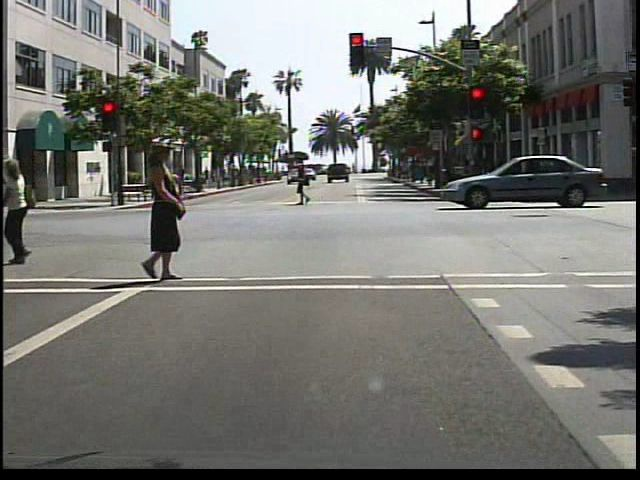person: (129, 136, 205, 280), (12, 160, 52, 270), (291, 157, 320, 207), (1, 145, 7, 289), (174, 164, 189, 190)
